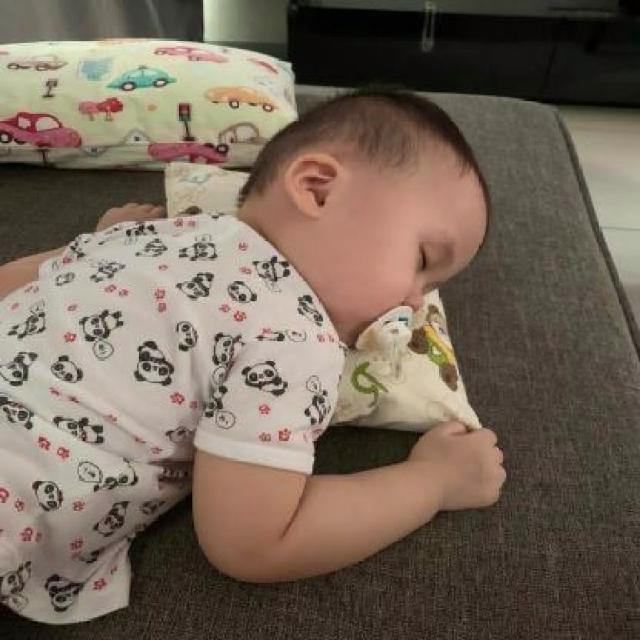child: (1, 88, 512, 619)
